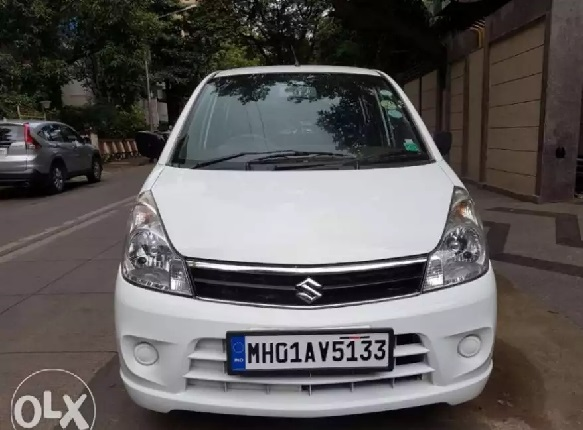licenseplate: (223, 325, 400, 376)
